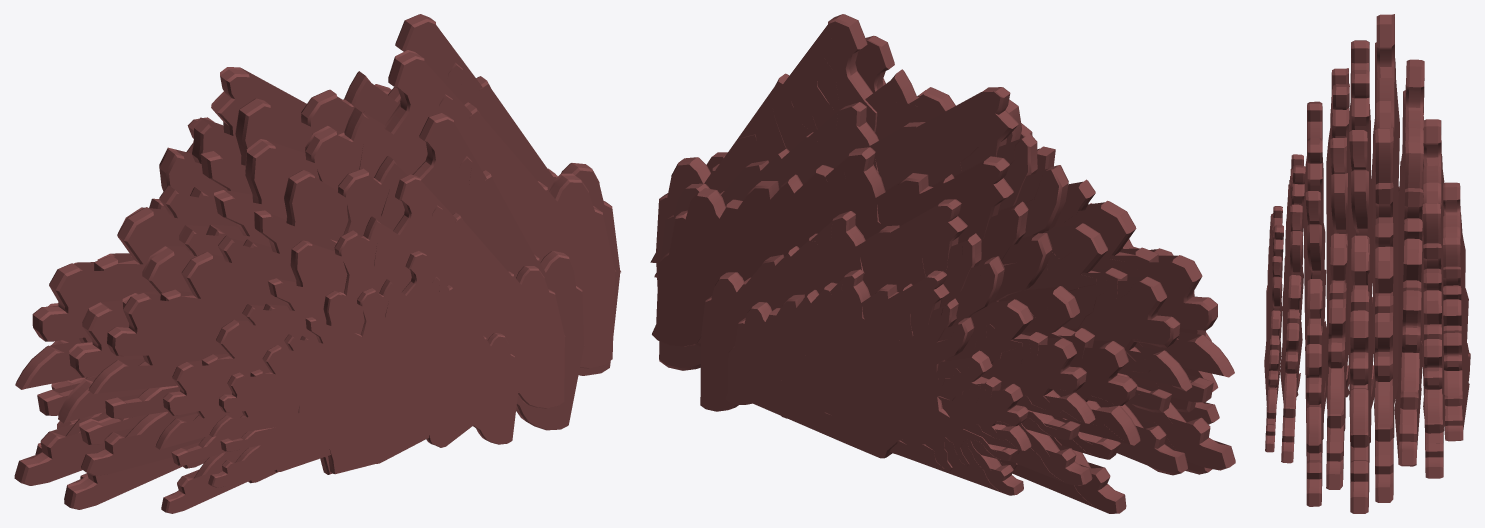
File: algae_test.fbx
3 views of the same model, side by side, from view 1: azimuth 30°, elevation 25°; view 2: azimuth 150°, elevation 25°; view 3: azimuth 270°, elevation 25° (orthographic). The views are drawn at different scales.
Parts seen in each view (by area): view 1: algae_group; view 2: algae_group; view 3: algae_group.
Part boxes in pixels (box(x1,y1,x2,y2)): algae_group: box(14, 14, 620, 513); algae_group: box(650, 14, 1235, 513); algae_group: box(1264, 14, 1470, 513).
Size of the model in its own units: 96.52 by 64.53 by 31.52.
